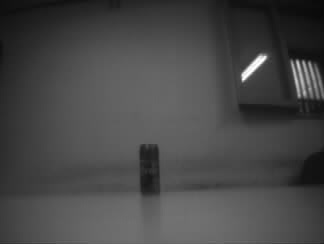Tin can: (139, 143, 159, 195)
